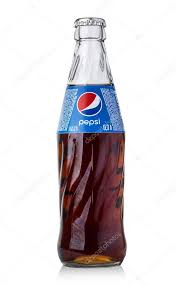pepsi: (76, 91, 105, 119)
